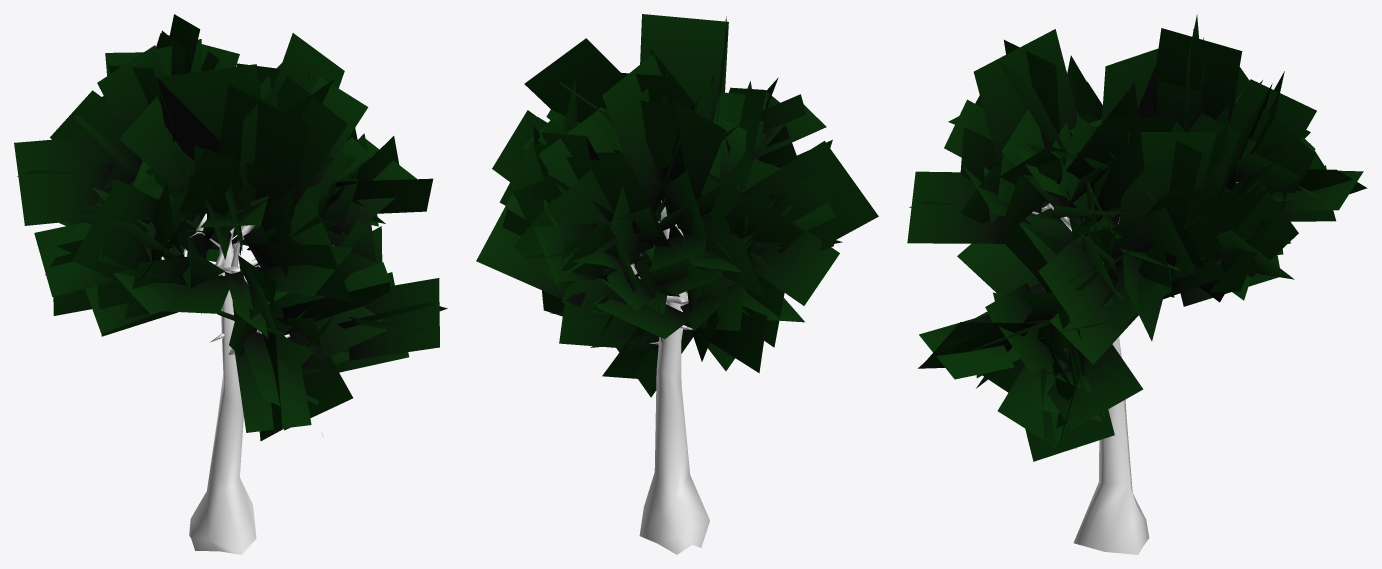
Rendered from BeecthTree01WinterSnow_LOD2.fbx.
The picture shows the model from 3 angles, left to right: view 1: azimuth 30°, elevation 25°; view 2: azimuth 150°, elevation 25°; view 3: azimuth 270°, elevation 25°; orthographic projection. The views are drawn at different scales.
Parts seen in each view (by area): view 1: BeecthTree01WinterSnow_LOD2; view 2: BeecthTree01WinterSnow_LOD2; view 3: BeecthTree01WinterSnow_LOD2.
Part boxes in pixels (box(x1,y1,x2,y2)): BeecthTree01WinterSnow_LOD2: box(14, 14, 447, 554); BeecthTree01WinterSnow_LOD2: box(476, 14, 878, 554); BeecthTree01WinterSnow_LOD2: box(907, 14, 1367, 554).
Size of the model in its own units: 16.33 by 21.52 by 17.23.
